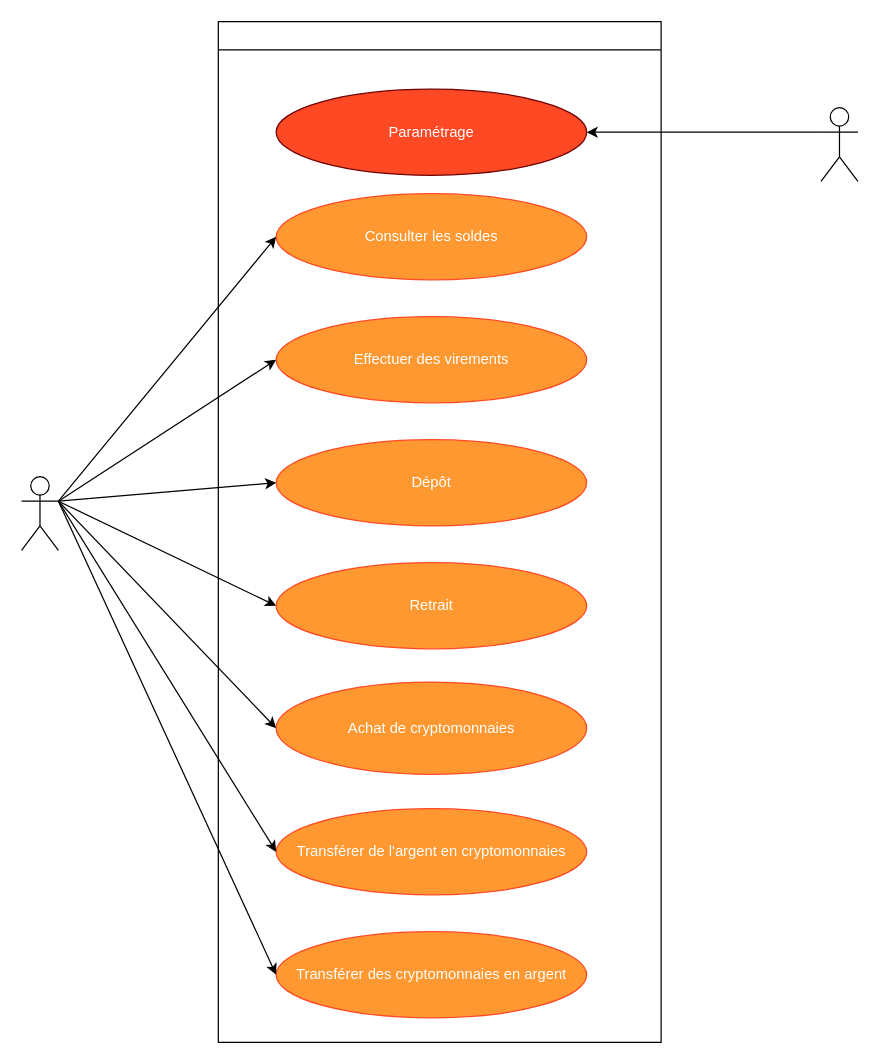
Some shapes in this 882 by 1064 pixel diagram are drawn without their labels. The shapes that lost their labels are listed below. From the top down, each one's box as (x1, y1, x2, y2) in pixels, then its label:
(820, 106, 858, 181): Admin
(20, 475, 58, 550): Client
(217, 20, 661, 1042): Application
